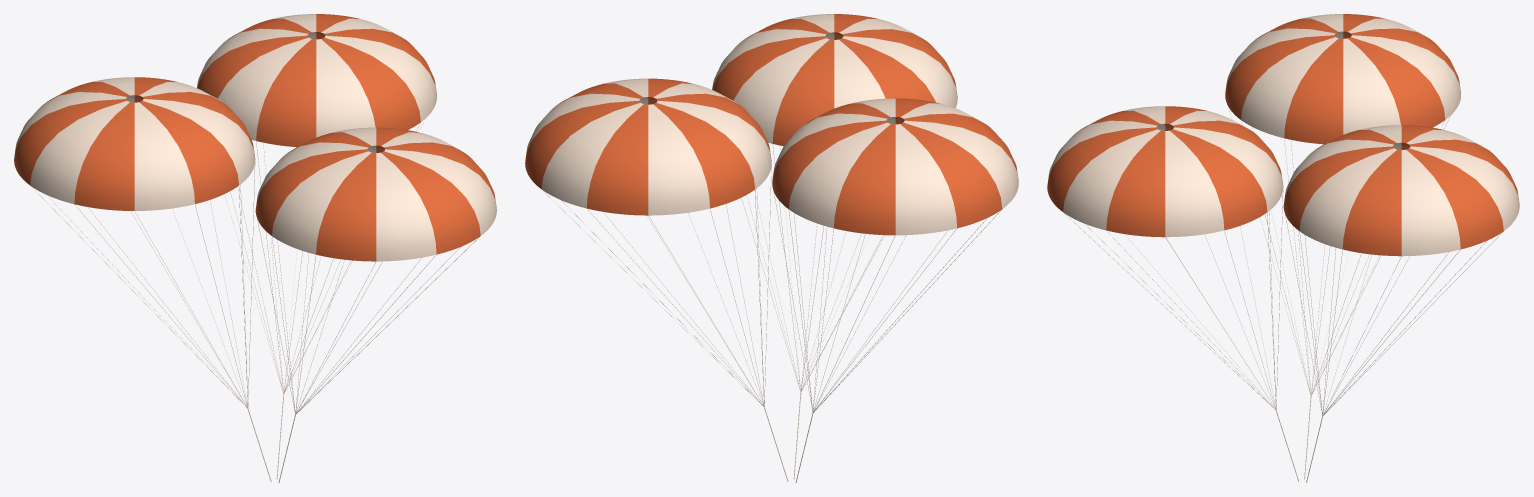
File: apollo_cm.parachutes_deployed.glb
The picture shows the model from 3 angles, left to right: view 1: azimuth 30°, elevation 25°; view 2: azimuth 150°, elevation 25°; view 3: azimuth 270°, elevation 25°; orthographic projection. The views are drawn at different scales.
Parts seen in each view (by area): view 1: apollo_cm.parachutes.main_03.mesh, apollo_cm.parachutes.main_01.mesh, apollo_cm.parachutes.main_02.mesh; view 2: apollo_cm.parachutes.main_02.mesh, apollo_cm.parachutes.main_03.mesh, apollo_cm.parachutes.main_01.mesh; view 3: apollo_cm.parachutes.main_01.mesh, apollo_cm.parachutes.main_02.mesh, apollo_cm.parachutes.main_03.mesh.
Boxes of the visible parts, x1,y1,x2,y2 form: apollo_cm.parachutes.main_03.mesh: (14, 77, 255, 408); apollo_cm.parachutes.main_01.mesh: (255, 127, 496, 414); apollo_cm.parachutes.main_02.mesh: (197, 14, 436, 394); apollo_cm.parachutes.main_02.mesh: (525, 78, 771, 407); apollo_cm.parachutes.main_03.mesh: (772, 98, 1018, 412); apollo_cm.parachutes.main_01.mesh: (712, 14, 957, 392); apollo_cm.parachutes.main_01.mesh: (1047, 106, 1283, 410); apollo_cm.parachutes.main_02.mesh: (1283, 125, 1519, 415); apollo_cm.parachutes.main_03.mesh: (1225, 14, 1460, 395).
Bounding box in the file's own units: 46.79 × 42.22 × 46.52.
